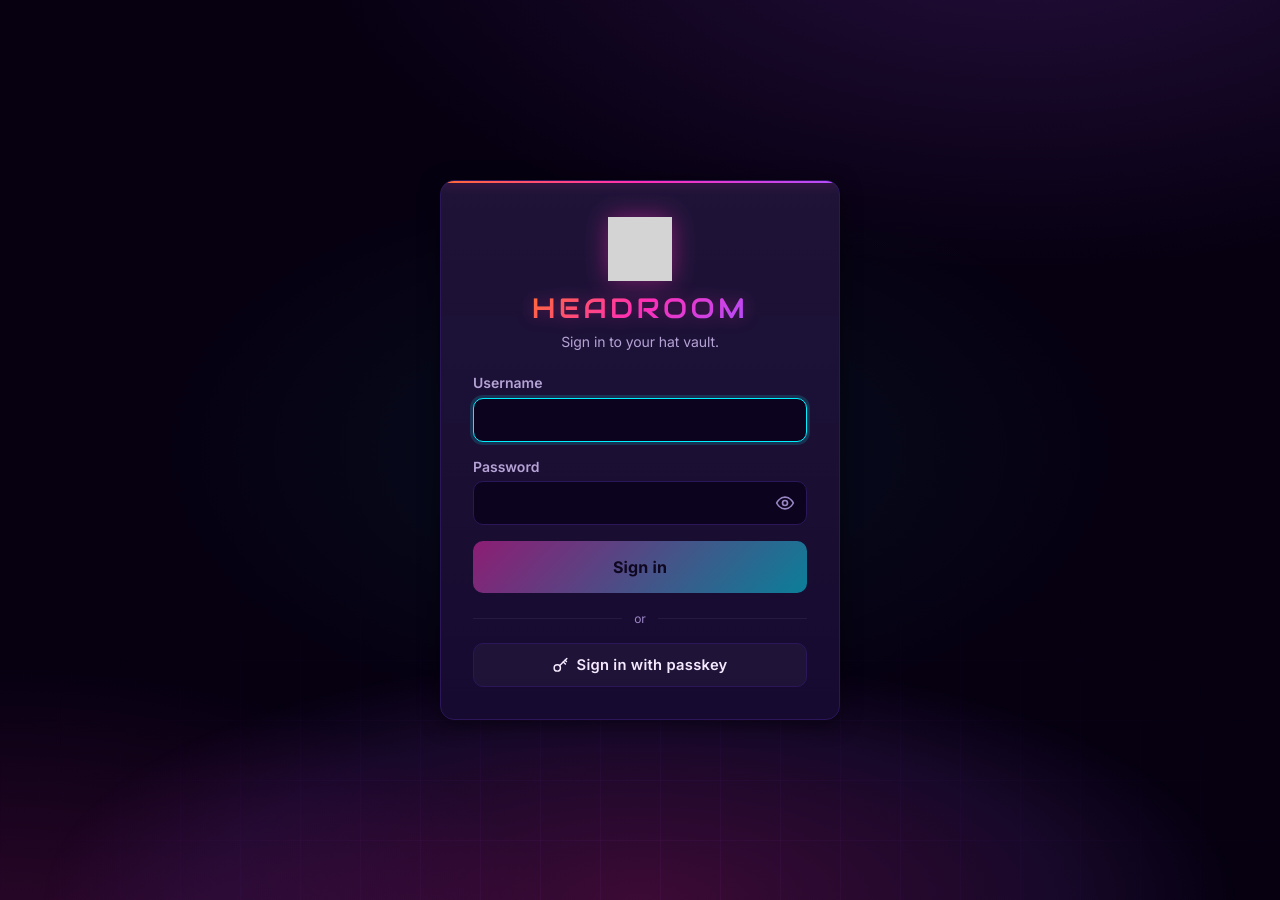
Test case: LoginPage polish › treats a dismissed passkey sheet as a cancel, not a fault
Click the button "Sign in with passkey". click: click(640, 665)
box: x1=473 y1=643 x2=807 y2=687
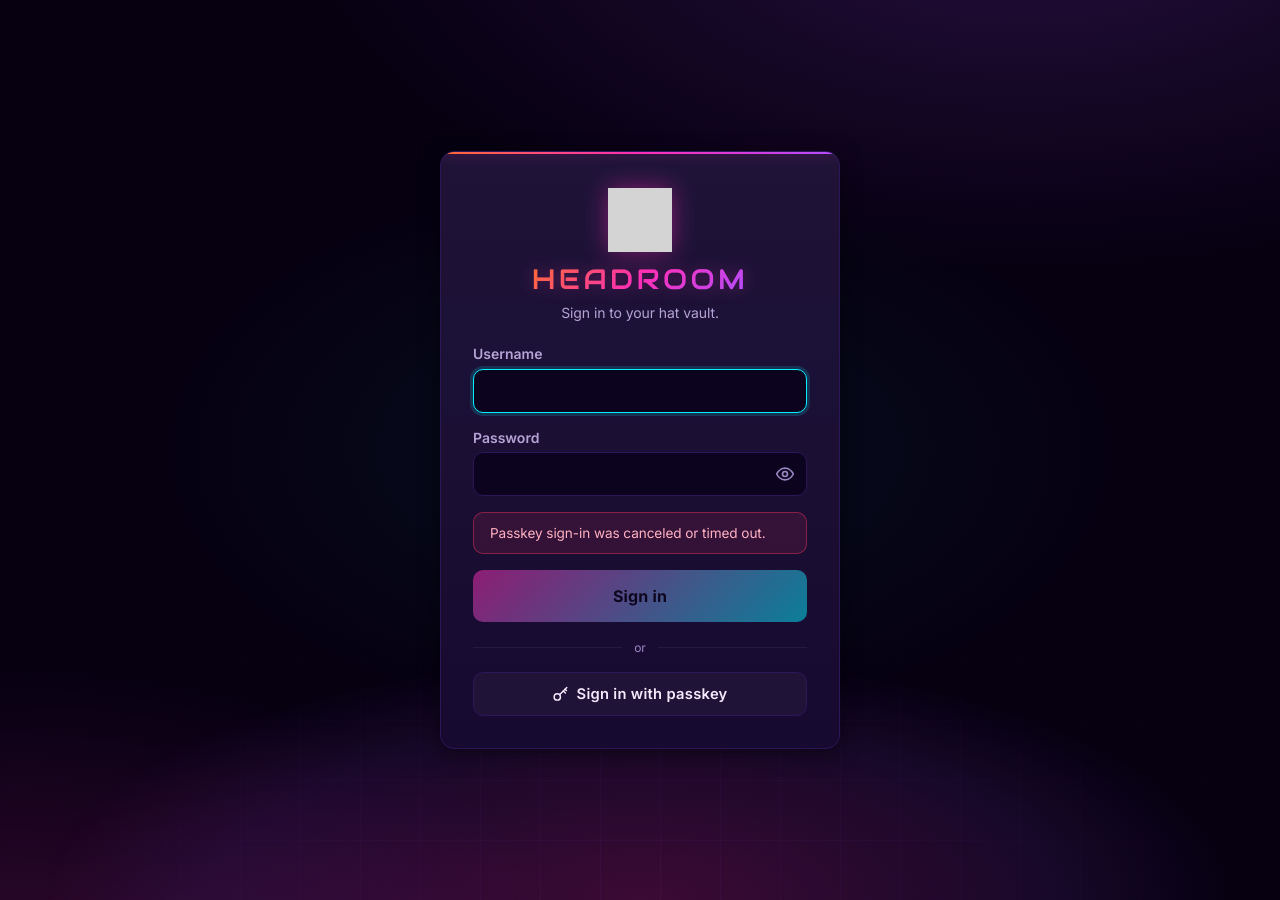
Expected: the button "Sign in with passkey" is enabled, x1=473 y1=672 x2=807 y2=716
Expected: the message reads "Passkey sign-in was canceled or timed out.", x1=490 y1=525 x2=766 y2=541
